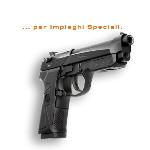Pistol: (37, 32, 135, 140)
